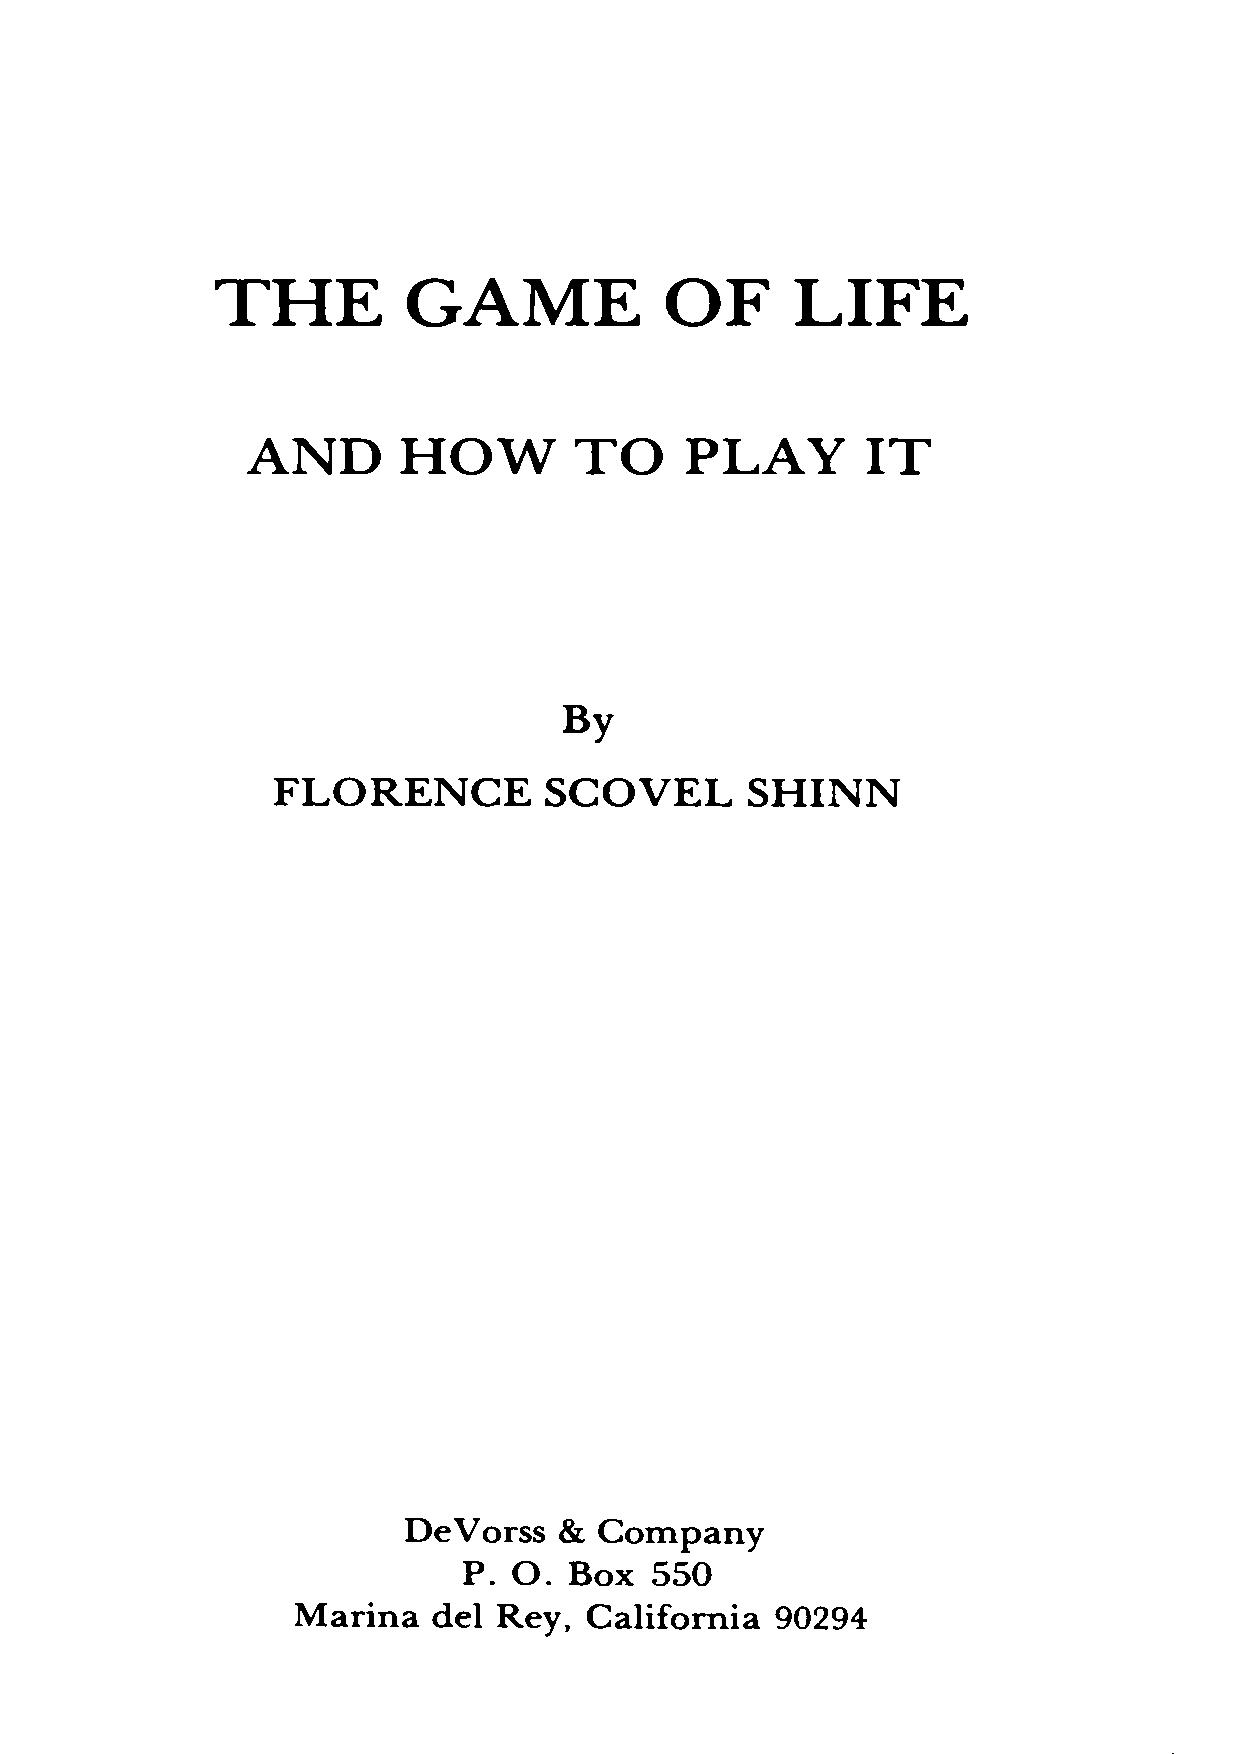author: (268, 701, 900, 811)
title: (208, 274, 969, 478)
